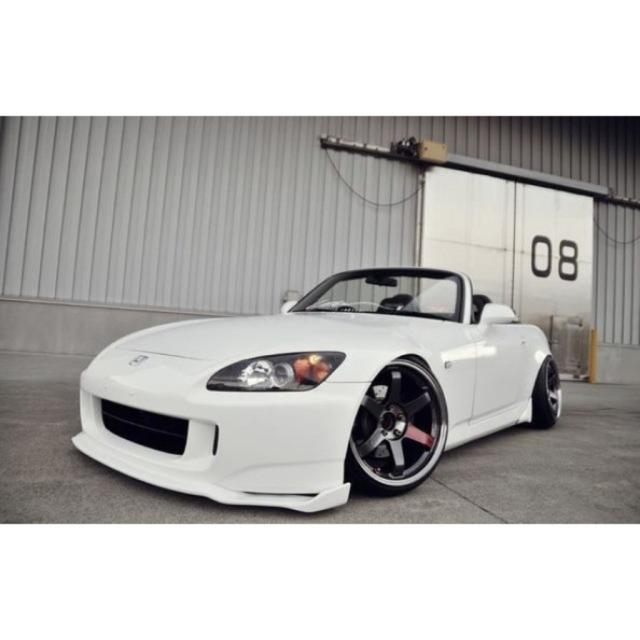car: (66, 260, 576, 504)
